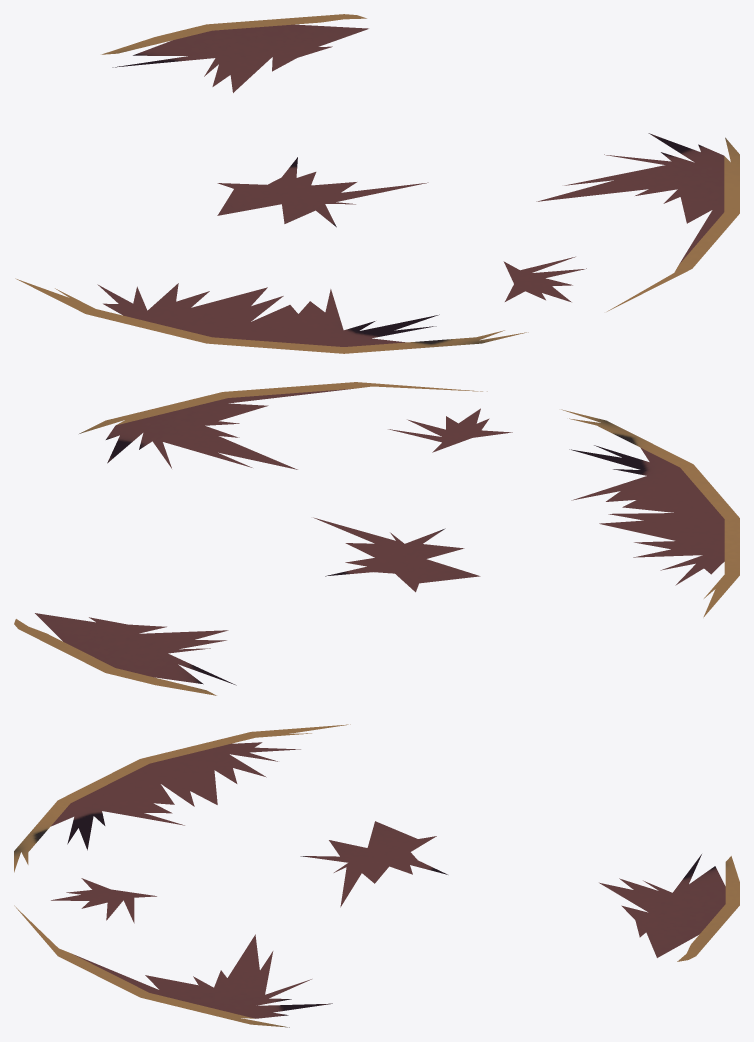
The model's file is Capet_01.FBX.
The picture shows the model from 3 angles, top to bottom: view 1: azimuth 30°, elevation 25°; view 2: azimuth 150°, elevation 25°; view 3: azimuth 270°, elevation 25°; orthographic projection. The views are drawn at different scales.
Parts seen in each view (by area): view 1: Capet_01; view 2: Capet_01; view 3: Capet_01.
Boxes of the visible parts, x1,y1,x2,y2 form: Capet_01: (15, 14, 739, 353); Capet_01: (14, 382, 739, 695); Capet_01: (14, 724, 739, 1027).
Size of the model in its own units: 9.95 by 6.18e-16 by 10.06.
